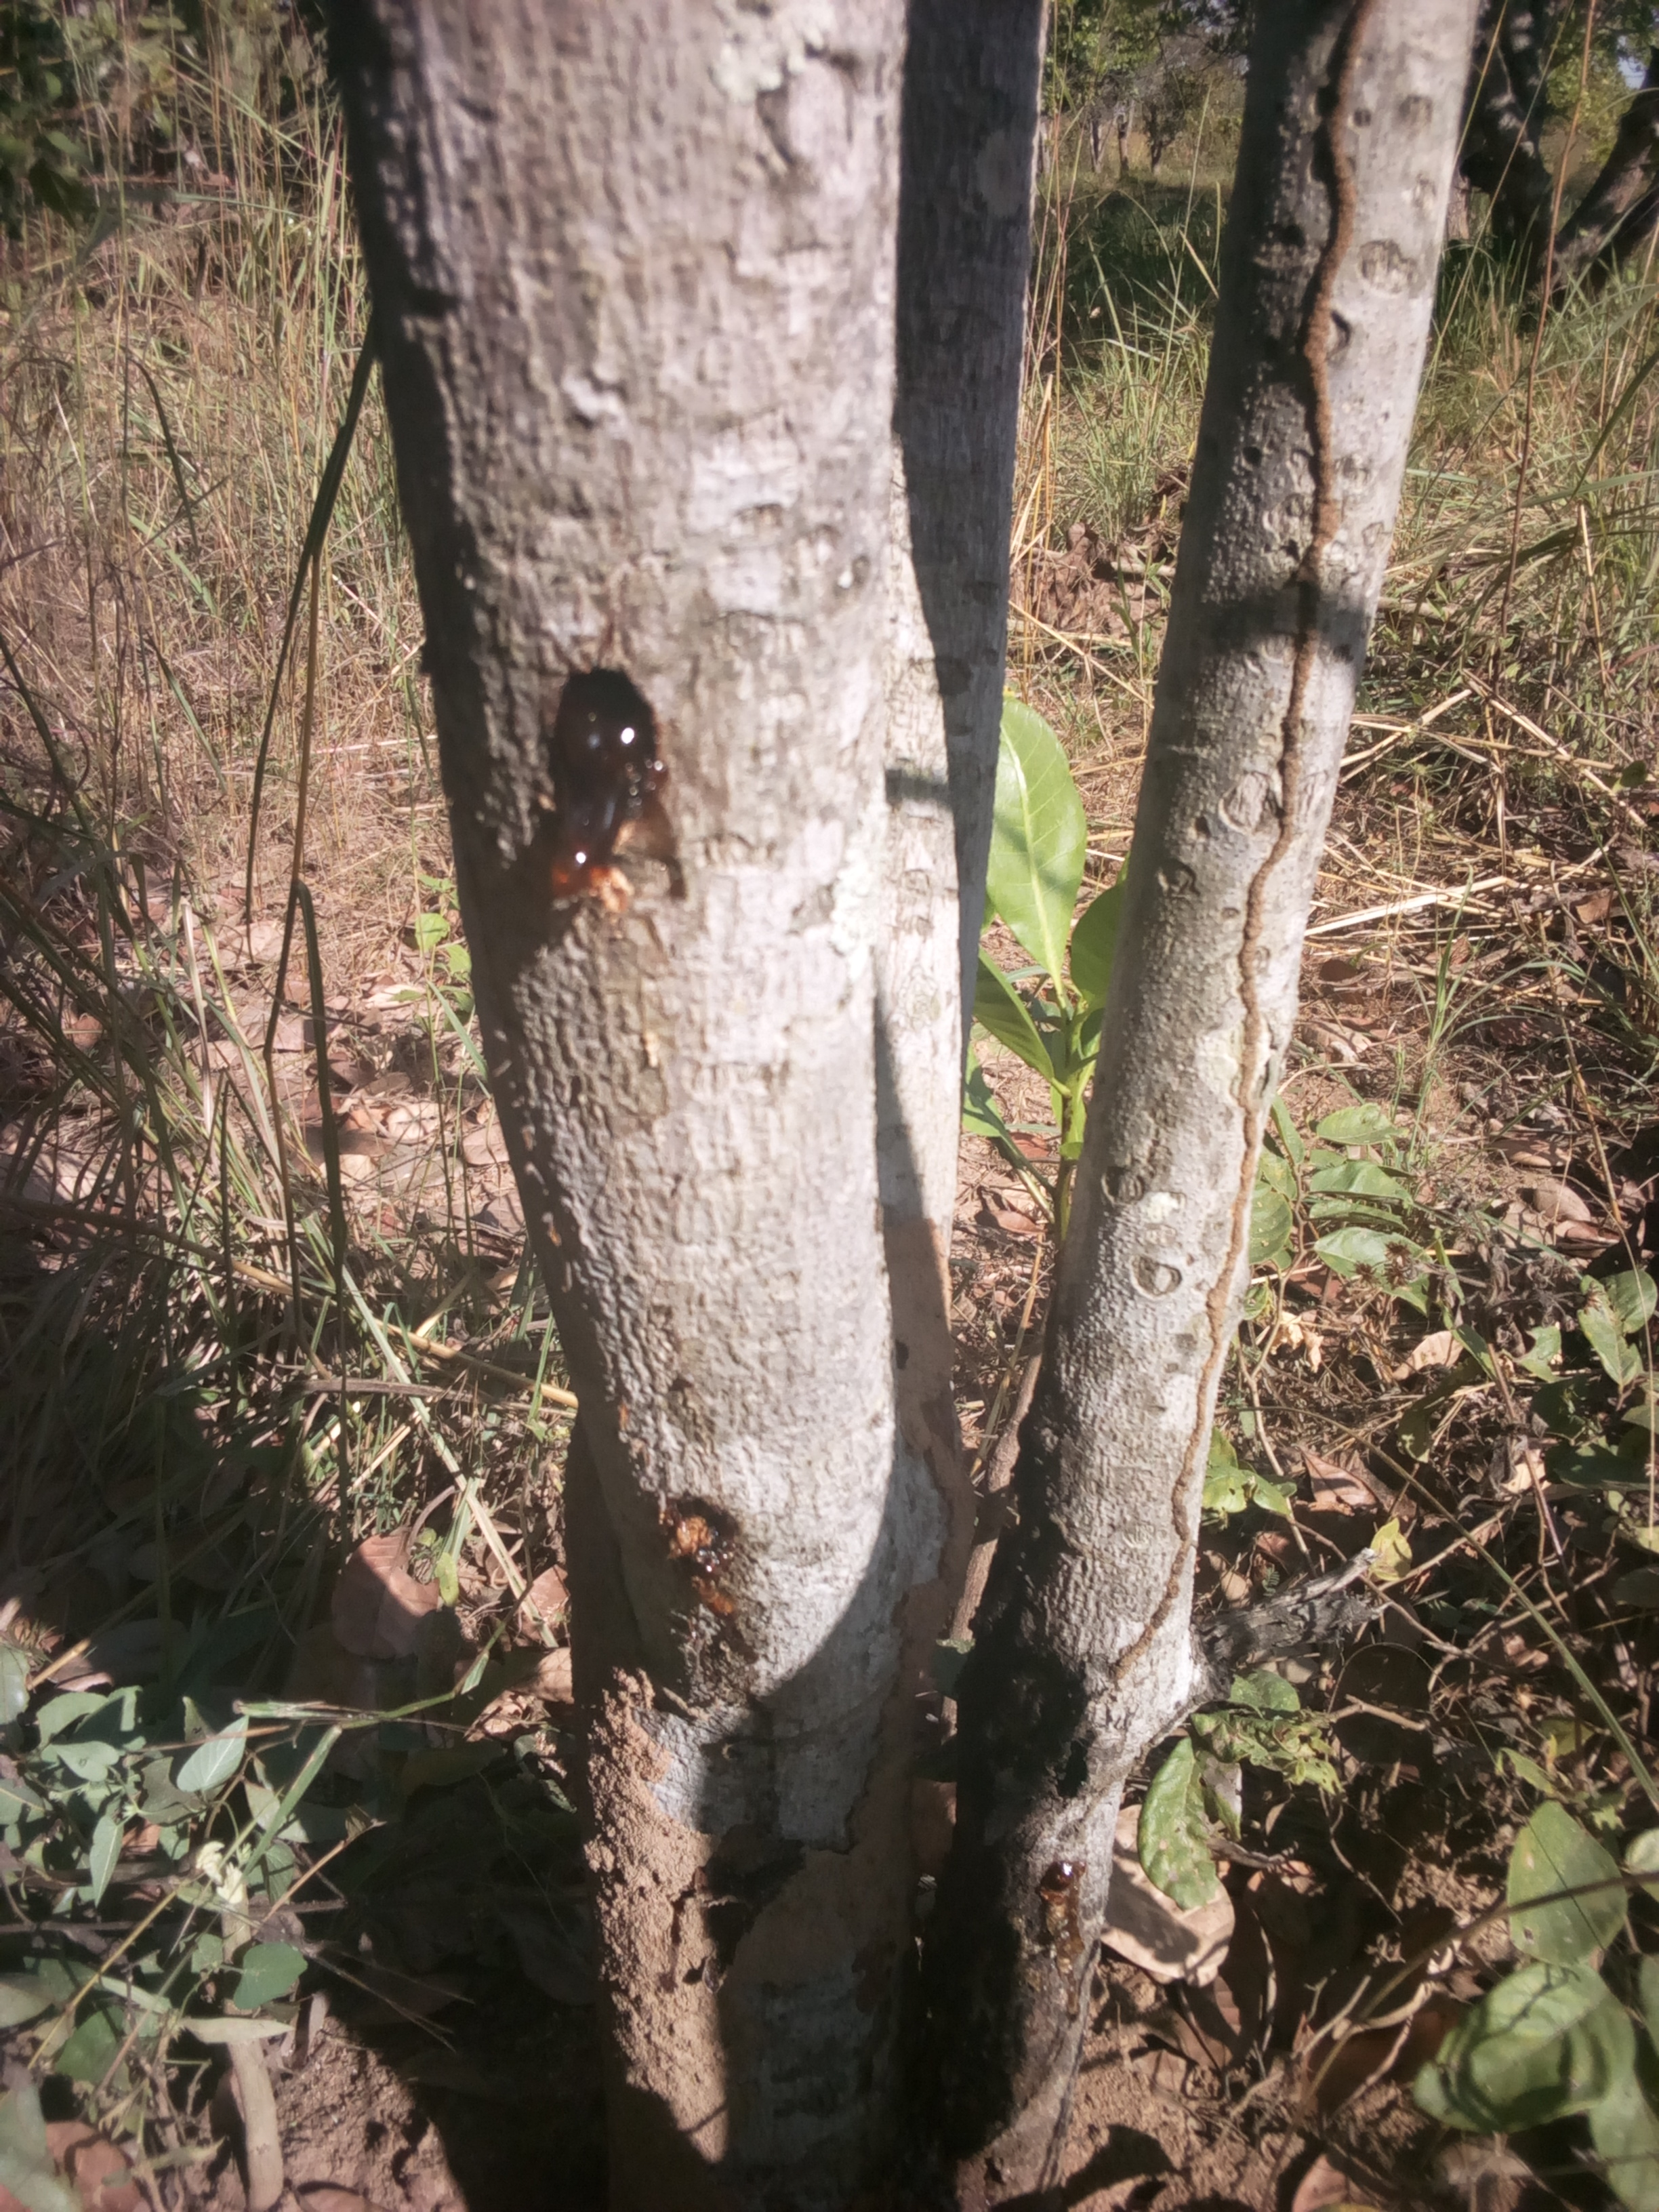Apate terebrans: (392, 615, 854, 1085)
